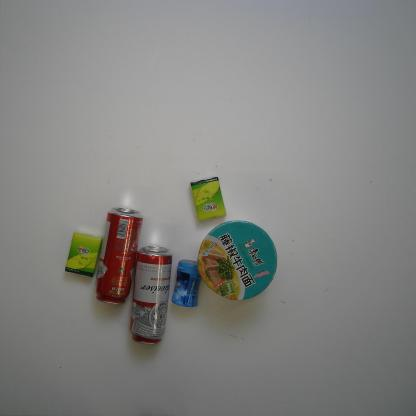Alcohol: (94, 207, 143, 305), (130, 245, 172, 345)
Gum: (171, 259, 203, 308)
Instant Noodles: (196, 220, 278, 300)
Tissue: (65, 230, 103, 278), (190, 177, 226, 222)
